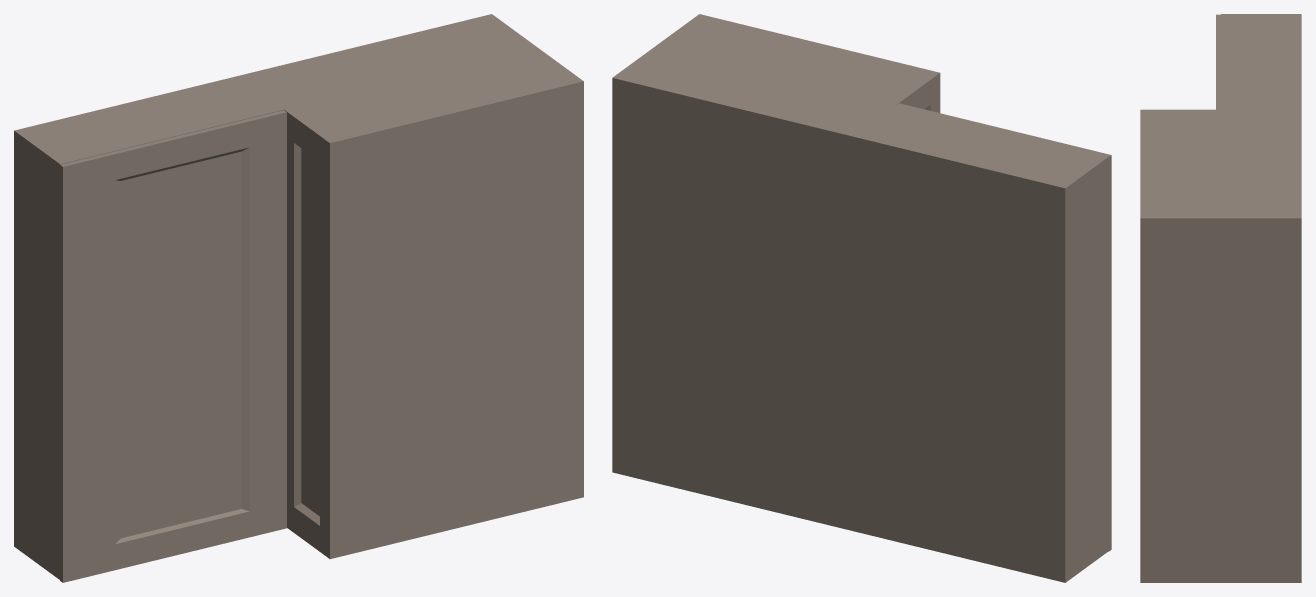
The model's file is Wall-Cabinet-Easy-Reach-12-Deep_std_001_W36in.glb.
3 views of the same model, side by side, from view 1: azimuth 30°, elevation 25°; view 2: azimuth 150°, elevation 25°; view 3: azimuth 270°, elevation 25° (orthographic). The views are drawn at different scales.
Visible parts, largest first — view 1: Wall-Cabinet-Easy-Reach-12-Deep.std.001_W36in; view 2: Wall-Cabinet-Easy-Reach-12-Deep.std.001_W36in; view 3: Wall-Cabinet-Easy-Reach-12-Deep.std.001_W36in.
Part boxes in pixels (left/top/right/bottom): Wall-Cabinet-Easy-Reach-12-Deep.std.001_W36in: left=14, top=14, right=583, bottom=582; Wall-Cabinet-Easy-Reach-12-Deep.std.001_W36in: left=612, top=14, right=1111, bottom=582; Wall-Cabinet-Easy-Reach-12-Deep.std.001_W36in: left=1140, top=14, right=1301, bottom=582.
Bounding box in the file's own units: 0.9144 × 0.762 × 0.3048.
